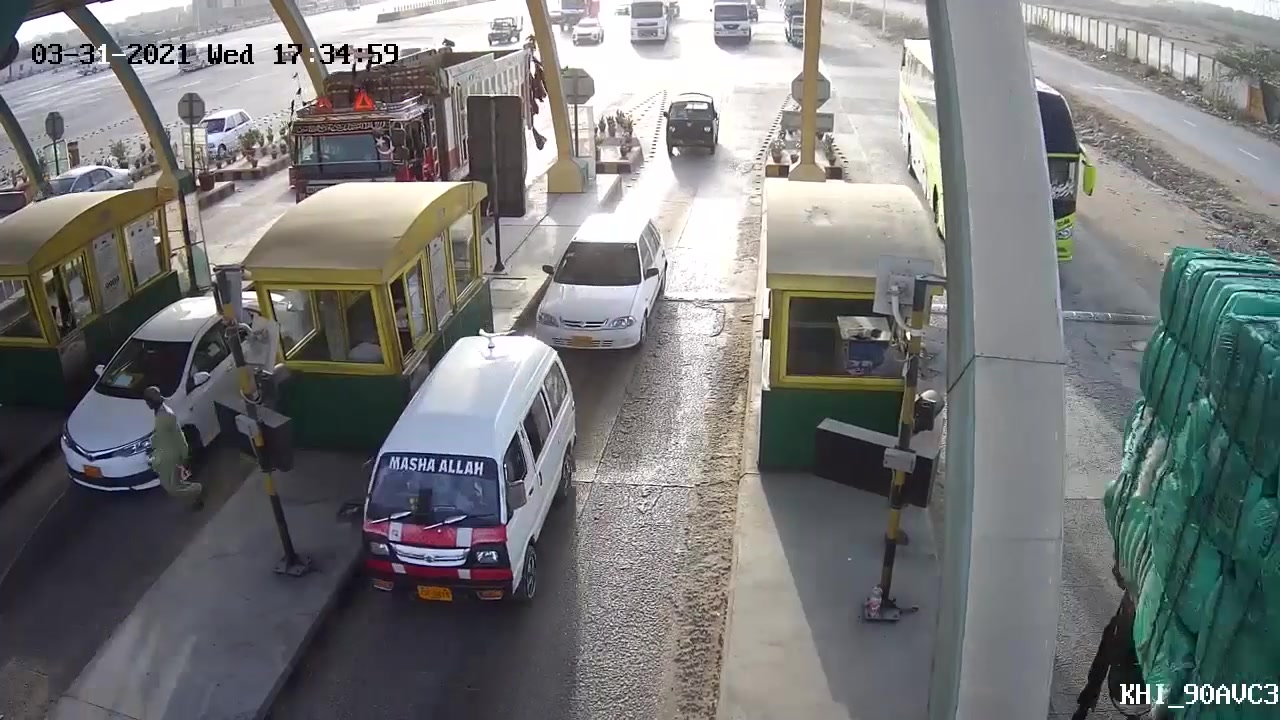F1: (363, 330, 577, 603), (530, 209, 675, 359)
